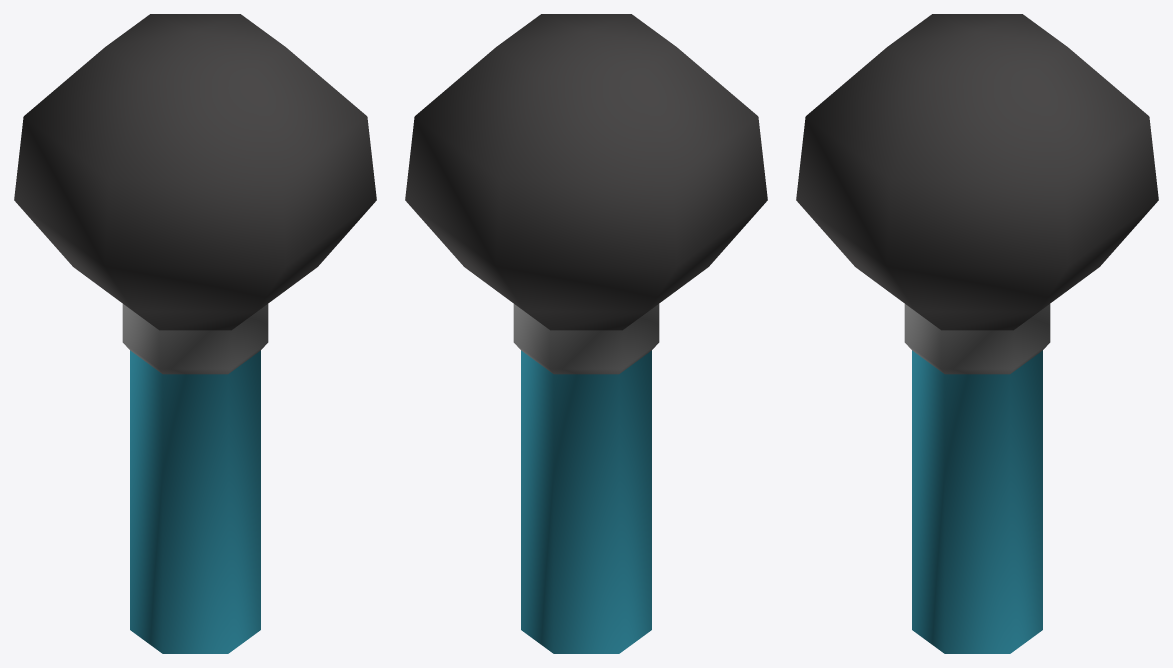
File: ParasolMushroomSmall_v3.fbx
3 views of the same model, side by side, from view 1: azimuth 30°, elevation 25°; view 2: azimuth 150°, elevation 25°; view 3: azimuth 270°, elevation 25° (orthographic).
Visible parts, largest first — view 1: Parasol_chiquito_LOD0; view 2: Parasol_chiquito_LOD0; view 3: Parasol_chiquito_LOD0.
Part boxes in pixels (box(x1,y1,x2,y2)): Parasol_chiquito_LOD0: box(14, 14, 376, 653); Parasol_chiquito_LOD0: box(405, 14, 767, 653); Parasol_chiquito_LOD0: box(796, 14, 1158, 653).
Size of what is drawn, in the model's own units: 5.38 by 11.29 by 6.21.
